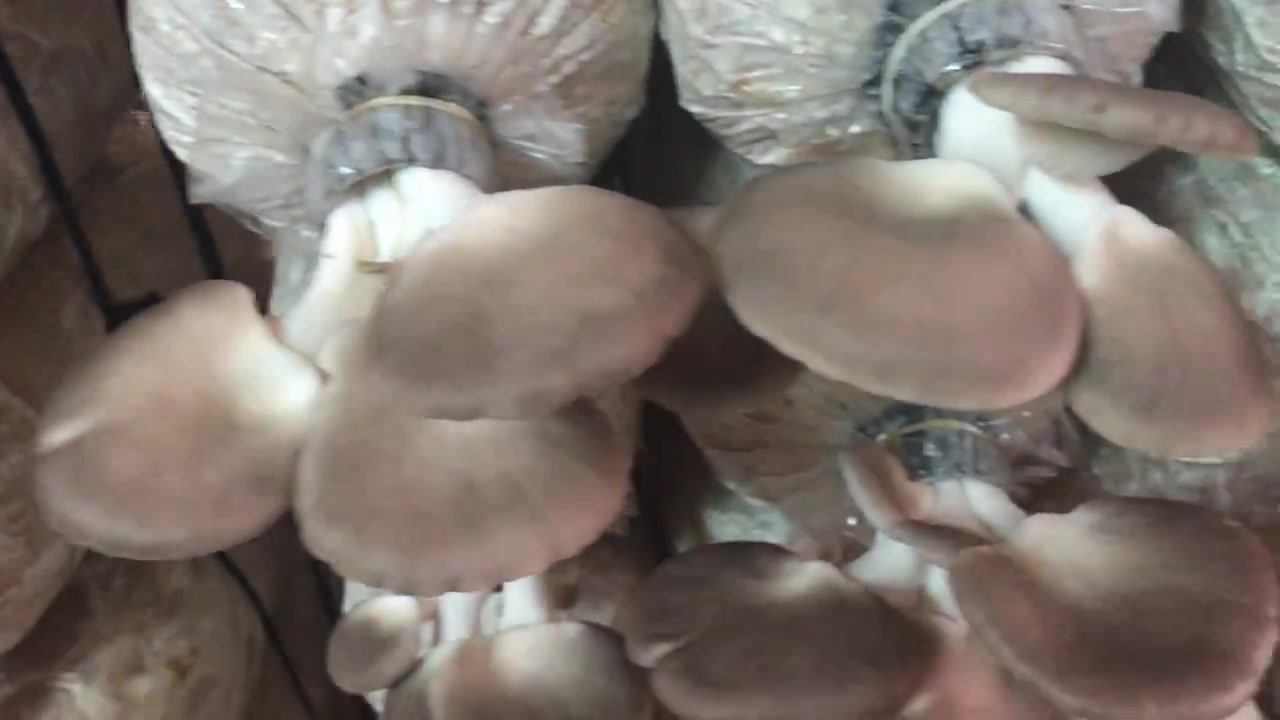nam: (36, 95, 709, 598), (717, 6, 1260, 459), (625, 418, 1277, 720), (327, 577, 620, 720)
